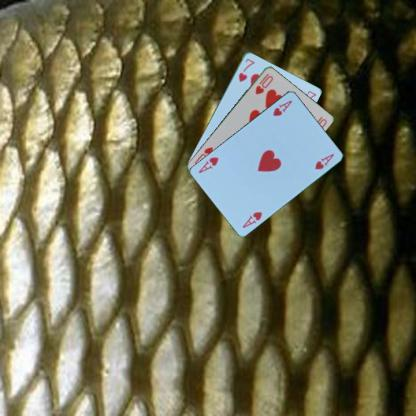10h: (252, 70, 274, 96)
7h: (236, 56, 256, 82)
Ah: (271, 97, 294, 117), (240, 208, 263, 228)
